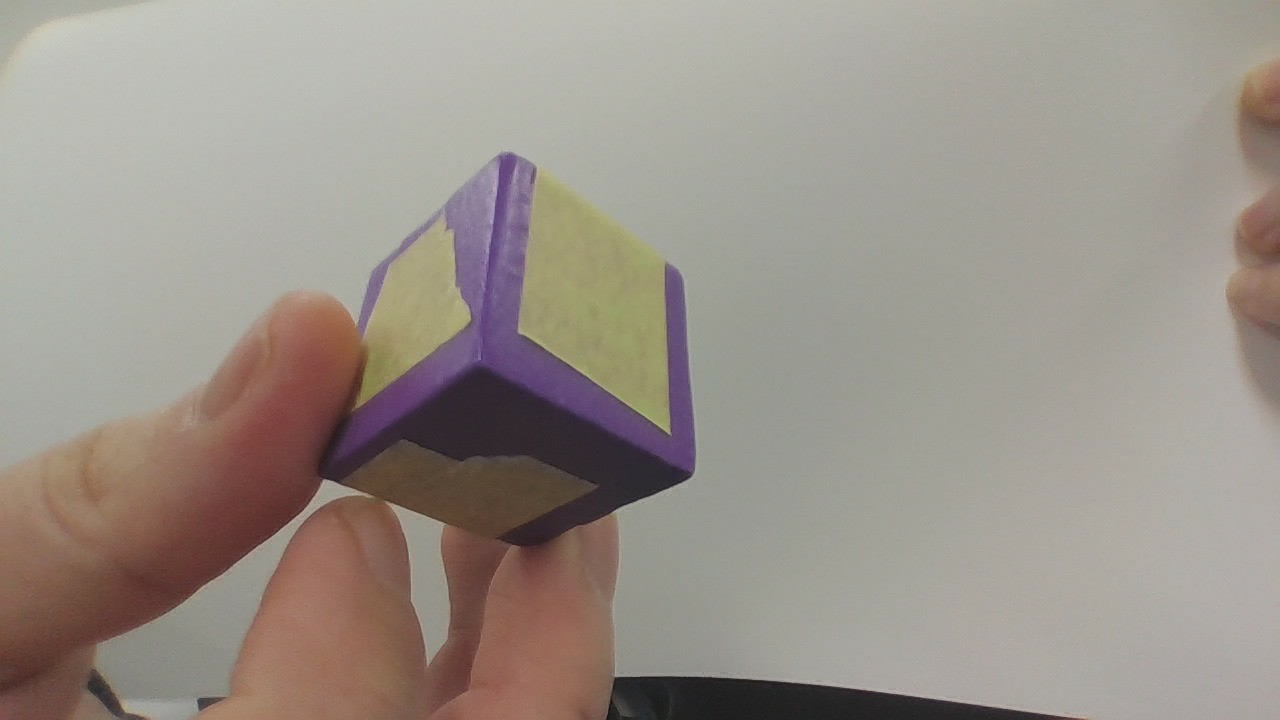Error: (341, 152, 692, 544)
